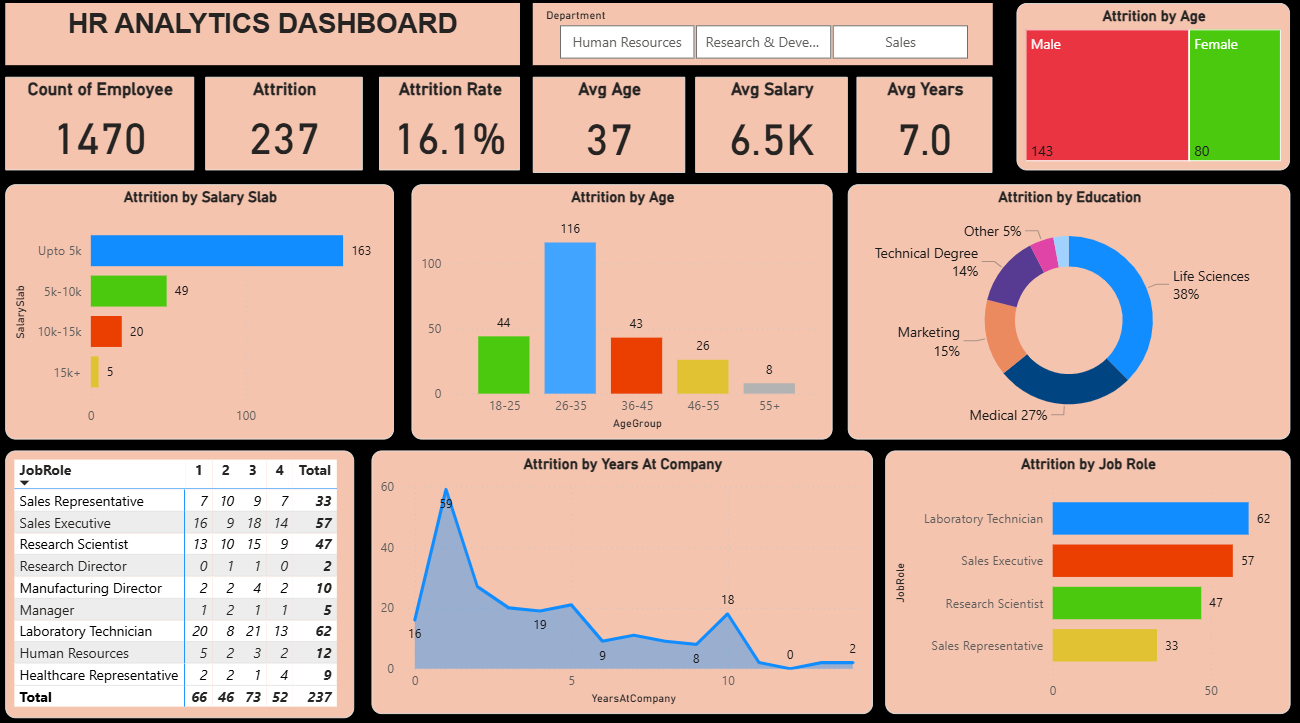

This screenshot's page, from the dashboard's own definition file:
{"tool":"powerbi","page":{"name":"Page 1","canvas":[1280,720],"ordinal":0},"visuals":[{"type":"card","title":"Count of Employee","fields":{"Values":["CountNonNull(HR_Analytics.EmpID)"]},"box":[15.7,80.8,182.2,90.5],"z":0},{"type":"card","title":"Attrition","fields":{"Values":["Sum(HR_Analytics.AttritionCount)"]},"box":[208.7,80.8,152,90.5],"z":1},{"type":"card","title":"Attrition Rate","fields":{"Values":["HR_Analytics.AttritionRate"]},"box":[376.4,80.8,136.3,90.5],"z":2},{"type":"card","title":"Avg Age","fields":{"Values":["Avg(HR_Analytics.Age)"]},"box":[524.8,80.8,147.2,92.9],"z":3},{"type":"card","title":"Avg Salary","fields":{"Values":["Avg(HR_Analytics.MonthlyIncome)"]},"box":[681.6,80.8,147.2,92.9],"z":4},{"type":"card","title":"Avg Years","fields":{"Values":["Avg(HR_Analytics.YearsAtCompany)"]},"box":[837.3,80.8,131.5,92.9],"z":5},{"type":"donutChart","title":"Attrition by Education","fields":{"Category":["HR_Analytics.EducationField"],"Y":["Sum(HR_Analytics.AttritionCount)"]},"box":[828.8,184.6,427.1,246.1],"z":6},{"type":"columnChart","title":"Attrition by Age","fields":{"Category":["HR_Analytics.AgeGroup","HR_Analytics.EducationField"],"Y":["Sum(HR_Analytics.AttritionCount)"]},"box":[407.8,184.6,406.6,246.1],"z":7},{"type":"pivotTable","fields":{"Rows":["HR_Analytics.JobRole"],"Columns":["HR_Analytics.JobSatisfaction"],"Values":["Sum(HR_Analytics.AttritionCount)"]},"box":[15.7,441.6,336.6,258.2],"z":8},{"type":"barChart","title":"Attrition by Salary Slab","fields":{"Category":["HR_Analytics.SalarySlab"],"Y":["Sum(HR_Analytics.AttritionCount)"]},"box":[15.7,184.6,375.2,246.1],"z":9},{"type":"barChart","title":"Attrition by Job Role","fields":{"Category":["HR_Analytics.JobRole"],"Y":["Sum(HR_Analytics.AttritionCount)"]},"box":[865,441.6,390.9,254.6],"z":10},{"type":"areaChart","title":"Attrition by Years At  Company","fields":{"Category":["HR_Analytics.YearsAtCompany"],"Y":["Sum(HR_Analytics.AttritionCount)"]},"box":[369.2,441.6,483.8,254.6],"z":11},{"type":"treemap","title":"Attrition by Age","fields":{"Group":["HR_Analytics.Gender"],"Values":["Sum(HR_Analytics.AttritionCount)"]},"box":[991.7,9.7,264.2,161.7],"z":12},{"type":"slicer","fields":{"Values":["HR_Analytics.Department"]},"box":[524.8,9.7,444,60.3],"z":13},{"type":"textbox","box":[15.7,9.7,497.1,60.3],"z":14}]}

Visuals, with their boxes in screenshot pixels (x1, y1, x2, y2), scaled from the page's 1280x720 canvas onto the 1300x723 screenshot:
"Count of Employee" card: bbox=(16, 81, 201, 172)
"Attrition" card: bbox=(212, 81, 366, 172)
"Attrition Rate" card: bbox=(382, 81, 521, 172)
"Avg Age" card: bbox=(533, 81, 682, 174)
"Avg Salary" card: bbox=(692, 81, 842, 174)
"Avg Years" card: bbox=(850, 81, 984, 174)
"Attrition by Education" donutChart: bbox=(842, 185, 1276, 432)
"Attrition by Age" columnChart: bbox=(414, 185, 827, 432)
pivotTable - HR_Analytics.JobRole x HR_Analytics.JobSatisfaction: bbox=(16, 443, 358, 703)
"Attrition by Salary Slab" barChart: bbox=(16, 185, 397, 432)
"Attrition by Job Role" barChart: bbox=(879, 443, 1276, 699)
"Attrition by Years At  Company" areaChart: bbox=(375, 443, 866, 699)
"Attrition by Age" treemap: bbox=(1007, 10, 1276, 172)
slicer - HR_Analytics.Department: bbox=(533, 10, 984, 70)
textbox: bbox=(16, 10, 521, 70)
